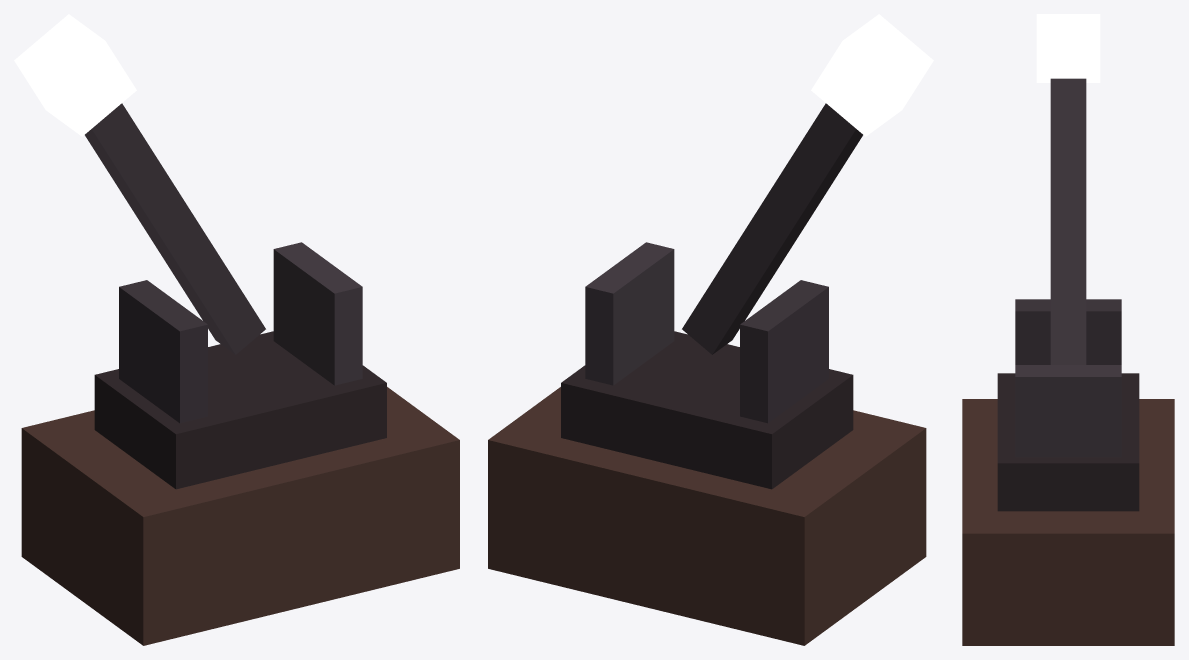
The model's file is lever_fire.glb.
The picture shows the model from 3 angles, left to right: view 1: azimuth 30°, elevation 25°; view 2: azimuth 150°, elevation 25°; view 3: azimuth 270°, elevation 25°; orthographic projection. The views are drawn at different scales.
Parts seen in each view (by area): view 1: lever_fire, Handle; view 2: lever_fire, Handle; view 3: lever_fire, Handle.
Part boxes in pixels (x1,y1,x2,y2): lever_fire: (21,242,459,645); Handle: (14,14,265,354); lever_fire: (488,242,926,645); Handle: (682,14,933,354); lever_fire: (962,299,1174,645); Handle: (1036,14,1100,364).
Size of the model in its own units: 1.04 by 1.56 by 0.6.
